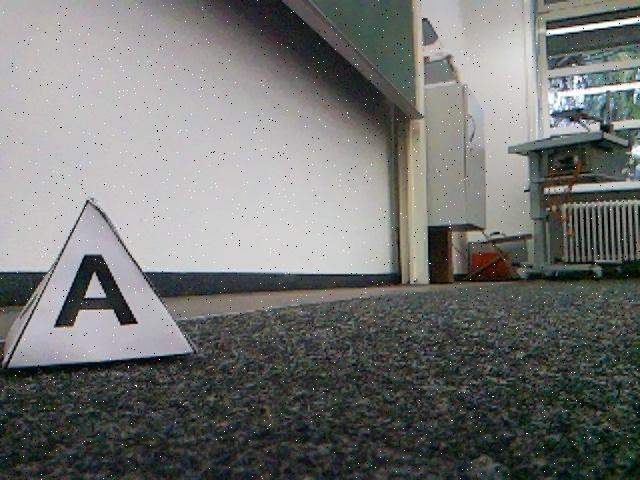A: (0, 200, 195, 369)
